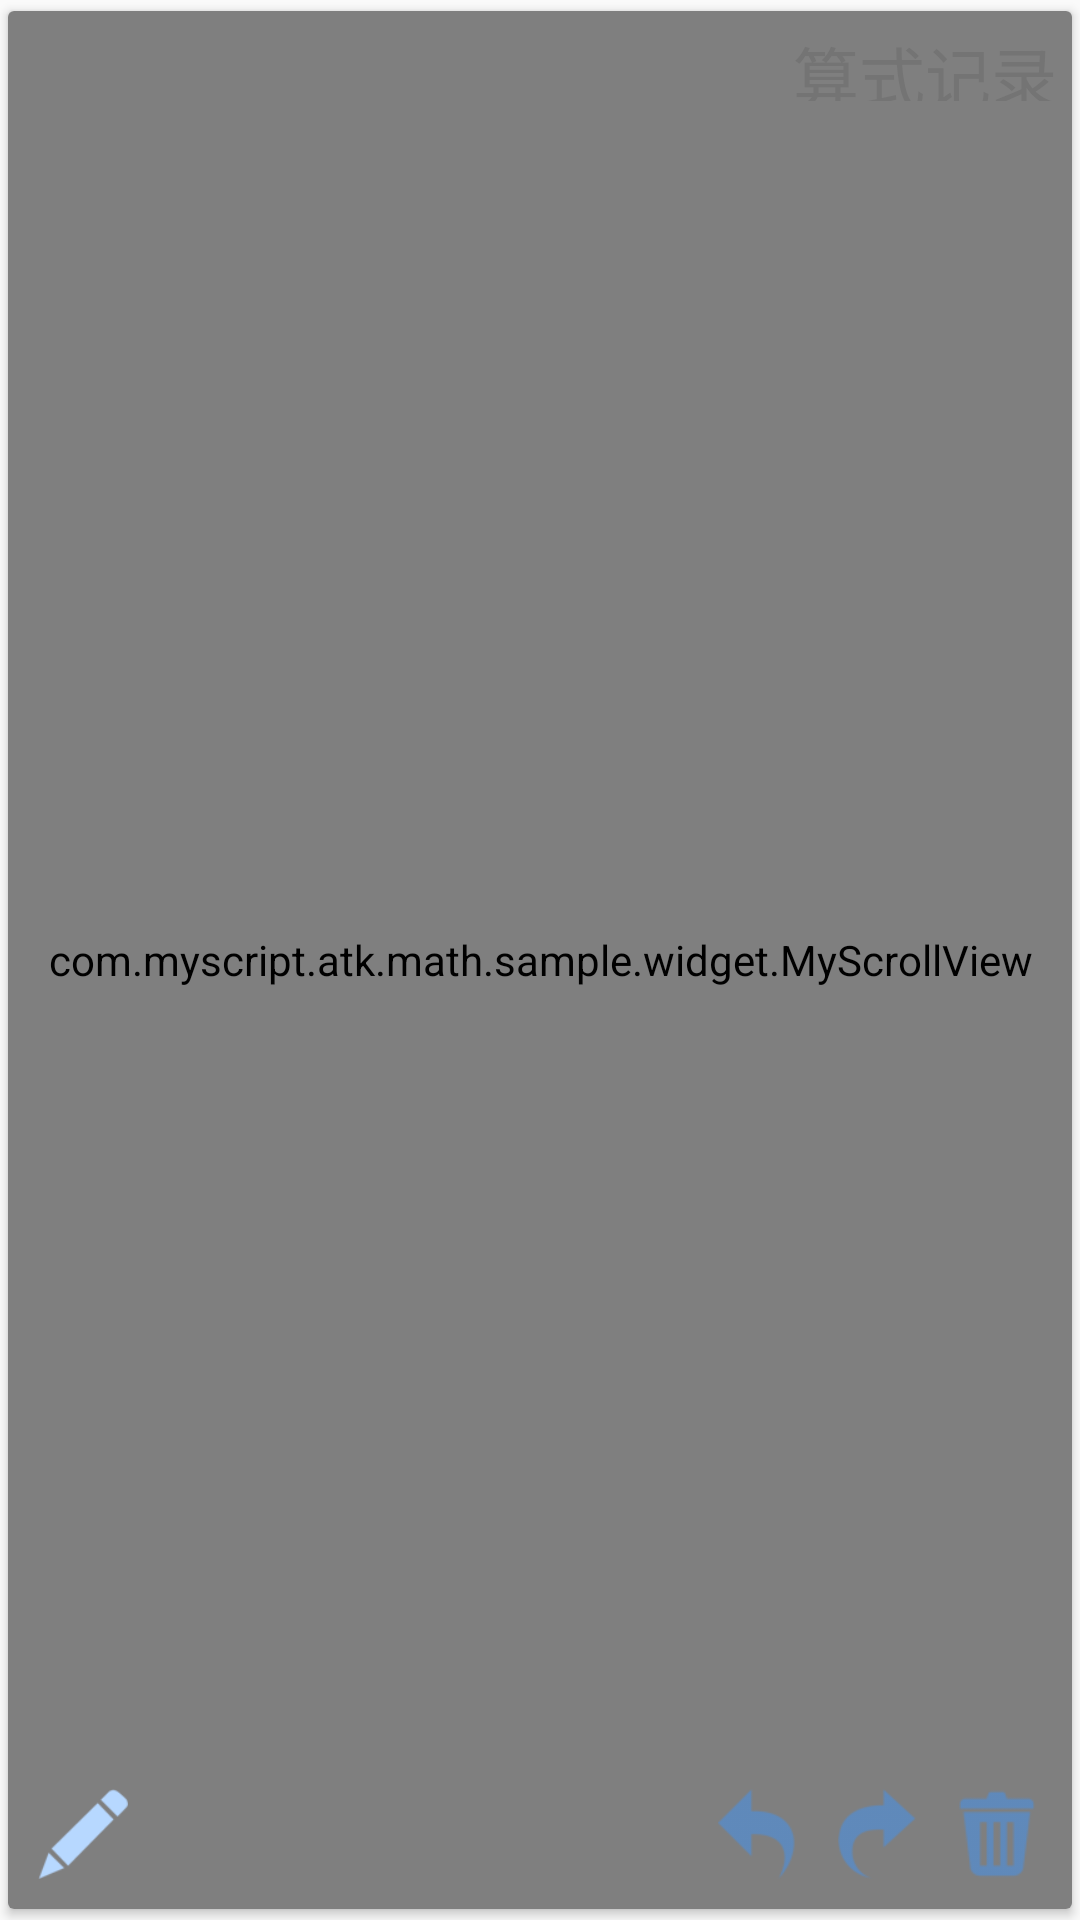

Screen size 1080px×1920px. Icon name, then its box in pixels as (x1, y1, x2, y2):
clear: (960, 1792, 1034, 1876)
redo: (838, 1791, 915, 1877)
undo: (718, 1791, 794, 1876)
write: (39, 1790, 128, 1879)
